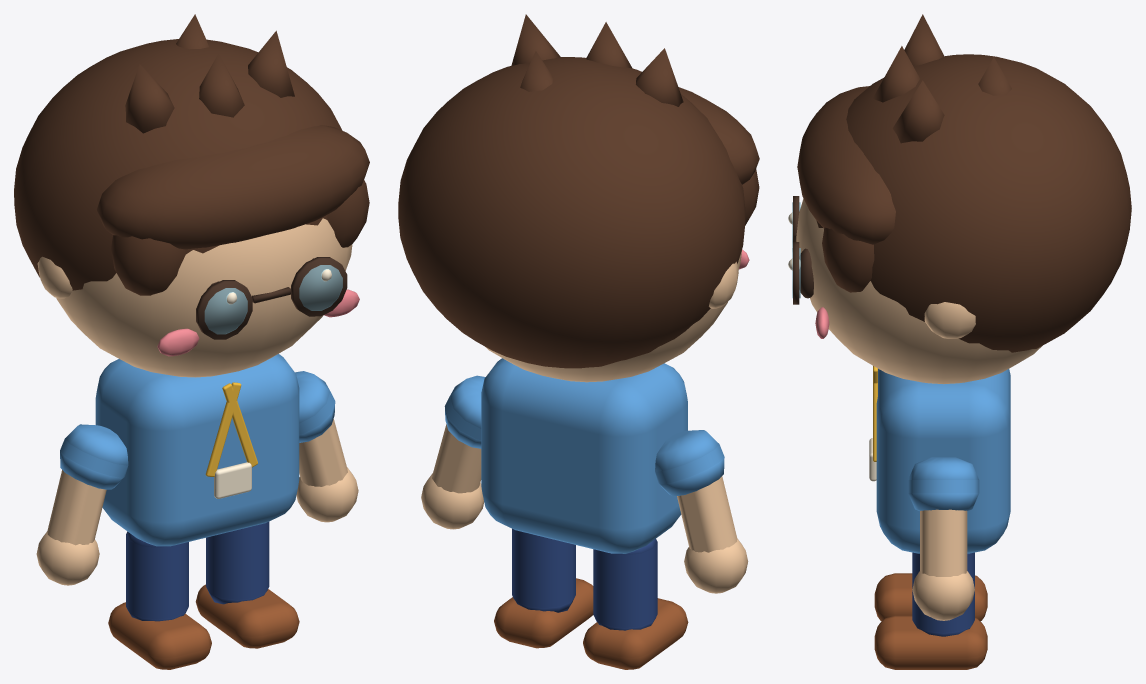
File: haris.glb
3 renders of one model, left to right at view 1: azimuth 30°, elevation 25°; view 2: azimuth 150°, elevation 25°; view 3: azimuth 270°, elevation 25°, orthographic. The views are drawn at different scales.
Visible parts, largest first — view 1: Hair.001, Torso.001, Fringe.001, Head.002, Leg-1.001, Leg1.001, Shoe-1.001, Shoe1.002, Sleeve-1.001, FringeSide-1.001, Arm-1.001, Lens-1 (+17 smaller); view 2: Hair.001, Torso.001, Leg-1.001, Leg1.001, Shoe-1.001, Sleeve-1.001, Shoe1.002, Head.002, Arm-1.001, Hand-1.001, Fringe.001, Arm1.001 (+8 smaller); view 3: Hair.001, Torso.001, Head.002, Fringe.001, Shoe1.002, Sleeve1.001, Arm1.001, FringeSide1.001, Hand1.001, Shoe-1.001, Spike2, Leg1.001 (+5 smaller).
Boxes of the visible parts, x1,y1,x2,y2 form: Hair.001: (14,39,342,290); Torso.001: (95,354,299,546); Fringe.001: (97,125,369,249); Head.002: (56,218,352,377); Leg-1.001: (126,531,188,621); Leg1.001: (206,522,269,604); Shoe-1.001: (108,602,211,669); Shoe1.002: (195,584,299,648); Sleeve-1.001: (60,424,128,489); FringeSide-1.001: (111,235,185,295); Arm-1.001: (47,470,106,545); Lens-1: (196,280,252,339); Hair.001: (398,57,745,368); Torso.001: (481,358,687,553); Leg-1.001: (593,539,657,630); Leg1.001: (512,528,575,612); Shoe-1.001: (583,598,688,669); Sleeve-1.001: (655,430,724,496); Shoe1.002: (494,578,593,648); Head.002: (485,250,741,382); Arm-1.001: (677,476,737,552); Hand-1.001: (684,538,748,593); Fringe.001: (678,87,759,184); Arm1.001: (432,424,481,493); Hair.001: (816,54,1131,352); Torso.001: (876,368,1010,553); Head.002: (796,198,1041,384); Fringe.001: (797,86,895,244); Shoe1.002: (874,615,987,669); Sleeve1.001: (908,457,979,510); Arm1.001: (920,509,967,576); FringeSide1.001: (822,227,874,292); Hand1.001: (912,571,974,620); Shoe-1.001: (874,573,987,621); Spike2: (892,80,944,143); Leg1.001: (912,552,974,636).
Bounding box in the file's own units: 0.86 × 1.57 × 0.822.
